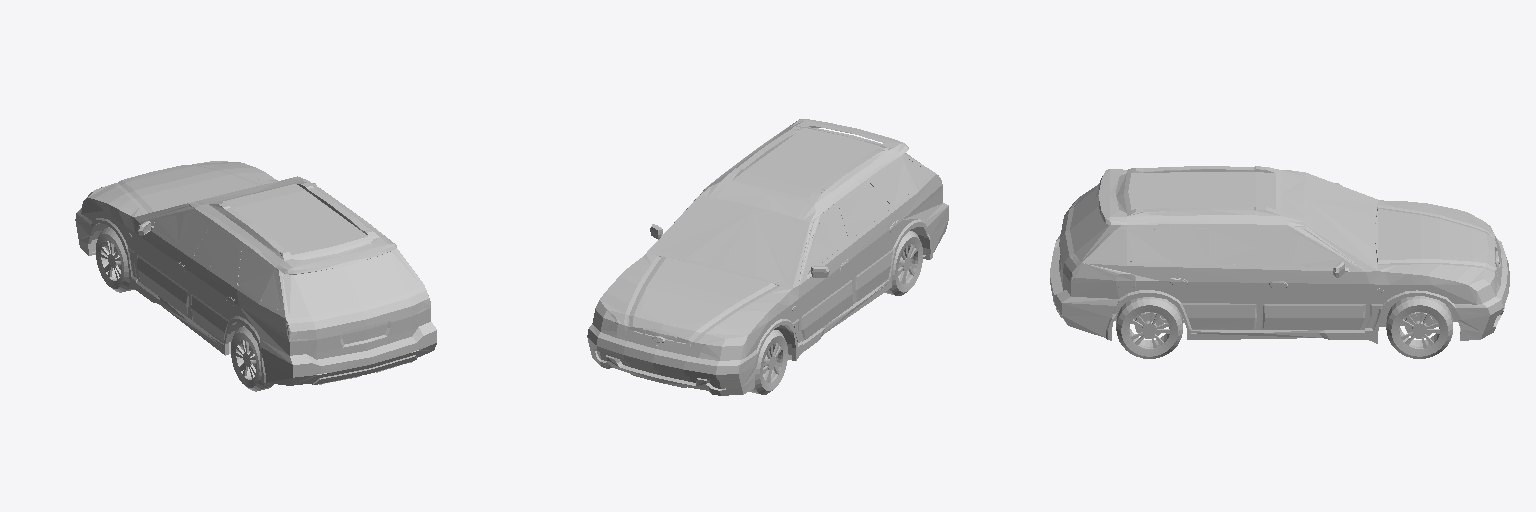
File: Subaru Legacy Lancaster (grey blue) 2.obj
The picture shows the model from 3 angles: view 1: azimuth 30°, elevation 25°; view 2: azimuth 150°, elevation 25°; view 3: azimuth 270°, elevation 25°; orthographic projection.
Parts seen in each view (by area): view 1: Cube; view 2: Cube; view 3: Cube.
Part boxes in pixels (bbox=[...]): Cube: bbox=[75, 161, 436, 391]; Cube: bbox=[587, 119, 948, 395]; Cube: bbox=[1050, 166, 1509, 358].
Size of the model in its own units: 4.14 by 3.01 by 9.23.